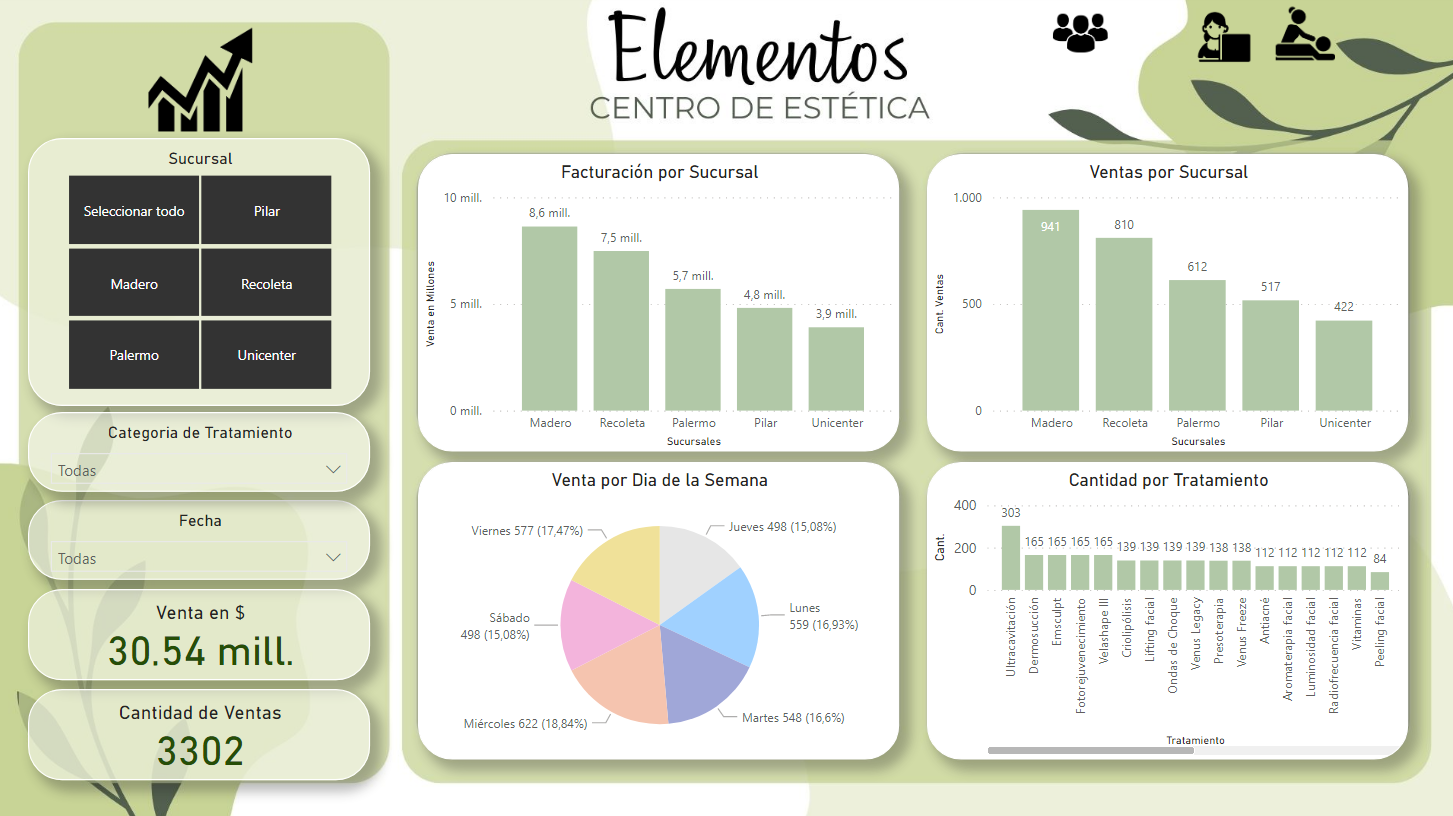

This screenshot's page, from the dashboard's own definition file:
{"tool":"powerbi","page":{"name":"VENTAS","canvas":[1280,720],"ordinal":5},"visuals":[{"type":"image","box":[1012.5,0,127.6,74.1],"z":0},{"type":"image","box":[1117.4,2.1,61.7,61.7],"z":1000},{"type":"image","box":[912.7,10.3,75.1,44.2],"z":2000},{"type":"columnChart","title":"Facturación por Sucursal","fields":{"Category":["Ventas_Detalle.sucursales.nombre_sucursal"],"Y":["Sum(Ventas_Detalle.precio_tratamiento)"]},"box":[369.7,138.6,422,261.2],"z":3000},{"type":"slicer","title":"Sucursal","fields":{"Values":["Ventas_Detalle.sucursales.nombre_sucursal"]},"box":[28.1,124.6,300.4,235.1],"z":4000},{"type":"slicer","title":"Fecha","fields":{"Values":["Ventas_Detalle.fecha_venta.Variación.Jerarquía de fechas.Año","Ventas_Detalle.fecha_venta.Variación.Jerarquía de fechas.Mes"]},"box":[28.1,442.1,300.4,70.3],"z":5000},{"type":"columnChart","title":"Ventas por Sucursal","fields":{"Y":["CountNonNull(Ventas_Detalle.id_venta)"],"Category":["Ventas_Detalle.sucursales.nombre_sucursal"]},"box":[816.8,138.6,422,261.2],"z":6000},{"type":"pieChart","title":"Venta por Dia de la Semana","fields":{"Series":["Ventas_Detalle.dia_venta"],"Y":["CountNonNull(Ventas_Detalle.id_venta)"]},"box":[369.7,408.9,422,261.2],"z":7000},{"type":"slicer","title":"Categoria de Tratamiento","fields":{"Values":["tratamientos.categoria"]},"box":[28.1,364.7,300.4,70.3],"z":8000},{"type":"columnChart","title":"Cantidad por Tratamiento","fields":{"Category":["Ventas_Detalle.tratamientos.nombre_tratamiento"],"Y":["CountNonNull(Ventas_Detalle.id_venta)"]},"box":[816.8,408.9,422,261.2],"z":9000},{"type":"image","box":[101.5,23.1,153.7,101.5],"z":9001},{"type":"card","title":"Venta en $","fields":{"Values":["Sum(Ventas_Detalle.precio_tratamiento)"]},"box":[28.1,520.4,300.4,80.4],"z":9002},{"type":"card","title":"Cantidad de Ventas","fields":{"Values":["CountNonNull(Ventas_Detalle.id_venta)"]},"box":[28.1,607.8,300.4,80.4],"z":9003}]}

Visuals, with their boxes in screenshot pixels (x1, y1, x2, y2), scaled from the page's 1280x720 canvas onto the 1453x816 screenshot:
image: x1=1149 y1=0 x2=1294 y2=84
image: x1=1268 y1=2 x2=1338 y2=72
image: x1=1036 y1=12 x2=1121 y2=62
"Facturación por Sucursal" columnChart: x1=420 y1=157 x2=899 y2=453
"Sucursal" slicer: x1=32 y1=141 x2=373 y2=408
"Fecha" slicer: x1=32 y1=501 x2=373 y2=581
"Ventas por Sucursal" columnChart: x1=927 y1=157 x2=1406 y2=453
"Venta por Dia de la Semana" pieChart: x1=420 y1=463 x2=899 y2=759
"Categoria de Tratamiento" slicer: x1=32 y1=413 x2=373 y2=493
"Cantidad por Tratamiento" columnChart: x1=927 y1=463 x2=1406 y2=759
image: x1=115 y1=26 x2=290 y2=141
"Venta en $" card: x1=32 y1=590 x2=373 y2=681
"Cantidad de Ventas" card: x1=32 y1=689 x2=373 y2=780
